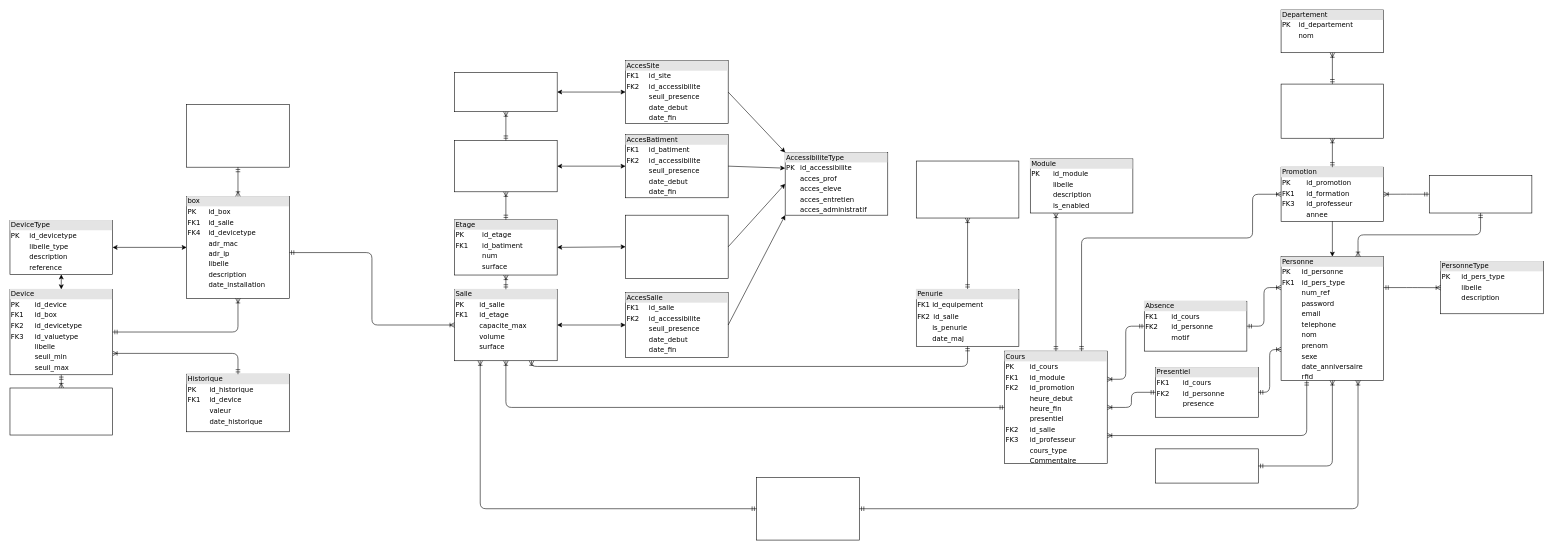
Image size: 1553x550. Some labels were removed from this diagram. The centre of each missing label's shape, as x and y in pixels:
"AccesEtage FK1 id_etage FK2 id_accessibilite seuil_presence date_debut date_fin" goes at [676,246].
"Alerte PK id_alerte FK1 id_box libelle description date_alerte" goes at [237,135].
"Badgeuse FK1 id_personne FK2 id_salle date_heure statut" goes at [807,508].
"Batiment PK id_batiment FK1 id_site nom surface" goes at [505,166].
"CasCovid FK1 id_personne date_declaration" goes at [1206,465].
"Contenir FK1 id_promotion FK2 id_eleve" goes at [1480,194].
"Equipement PK id_equipement libelle description equipement_type" goes at [967,189].
"Formation FK1 id_departement PK id_formation nom duree" goes at [1332,111].
"Site PK id_site nom" goes at [505,92].
"ValueType PK id_valuetype libelle unite" goes at [61,411].
